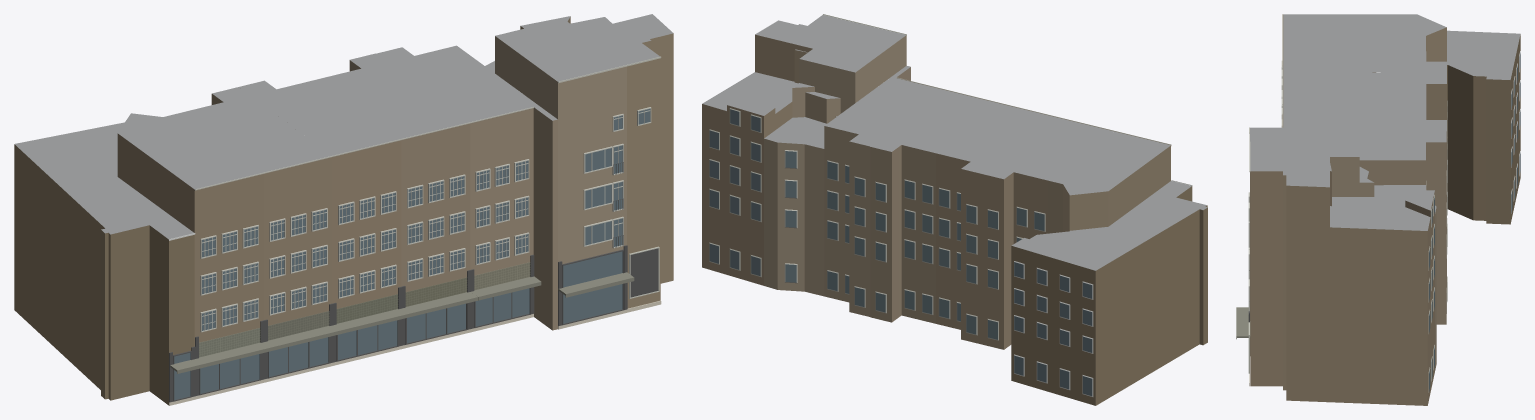
The model's file is chunk-face-evertsen-43-57.glb.
3 renders of one model, left to right at view 1: azimuth 30°, elevation 25°; view 2: azimuth 150°, elevation 25°; view 3: azimuth 270°, elevation 25°, orthographic. The views are drawn at different scales.
Parts seen in each view (by area): view 1: face-evertsen-43-57; view 2: face-evertsen-43-57; view 3: face-evertsen-43-57.
Boxes of the visible parts, x1,y1,x2,y2 form: face-evertsen-43-57: [14, 14, 673, 405]; face-evertsen-43-57: [702, 14, 1207, 405]; face-evertsen-43-57: [1236, 14, 1520, 405].
Size of the model in its own units: 48.85 by 20.62 by 24.68.
